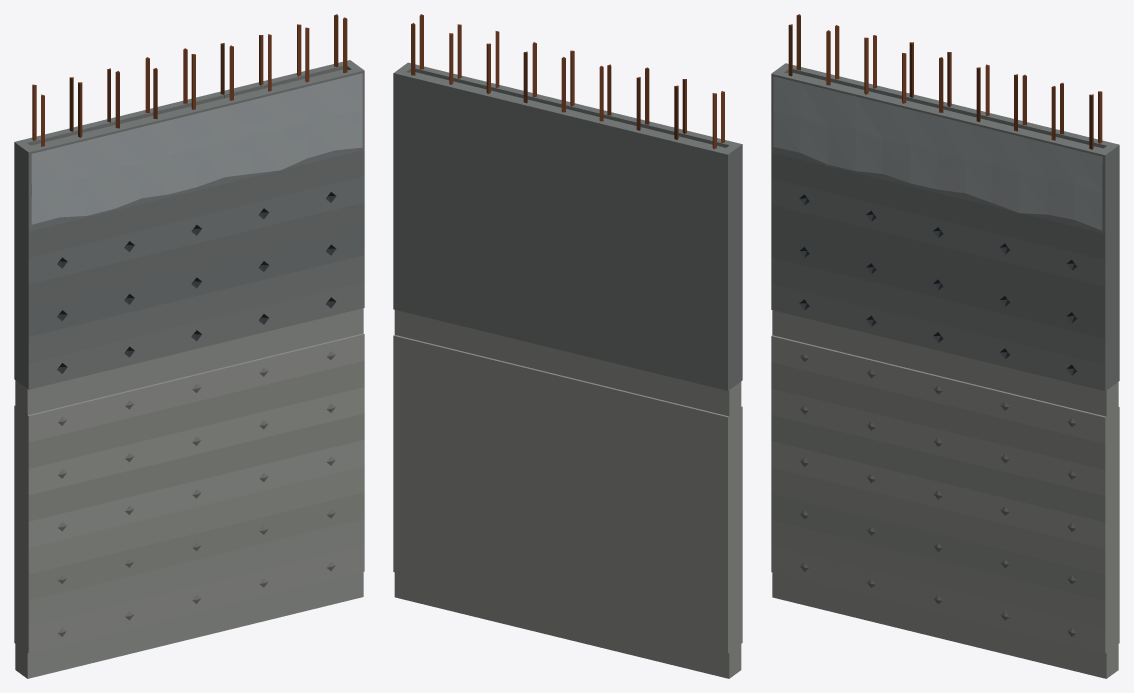
The model's file is concrete-core-section-39af7c.glb.
3 views of the same model, side by side, from view 1: azimuth 30°, elevation 25°; view 2: azimuth 150°, elevation 25°; view 3: azimuth 330°, elevation 25° (orthographic).
Parts seen in each view (by area): view 1: core-wall, polythene-sheet; view 2: core-wall; view 3: core-wall, polythene-sheet.
Boxes of the visible parts, x1,y1,x2,y2 form: core-wall: (14, 14, 364, 678); polythene-sheet: (31, 73, 362, 224); core-wall: (393, 14, 742, 678); core-wall: (771, 14, 1119, 678); polythene-sheet: (773, 76, 1102, 230).
Bounding box in the file's own units: 4 × 6.64 × 0.316.
